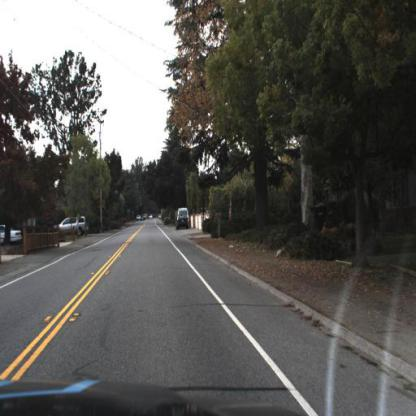car: (52, 214, 89, 238), (0, 224, 24, 250), (176, 212, 190, 231)
